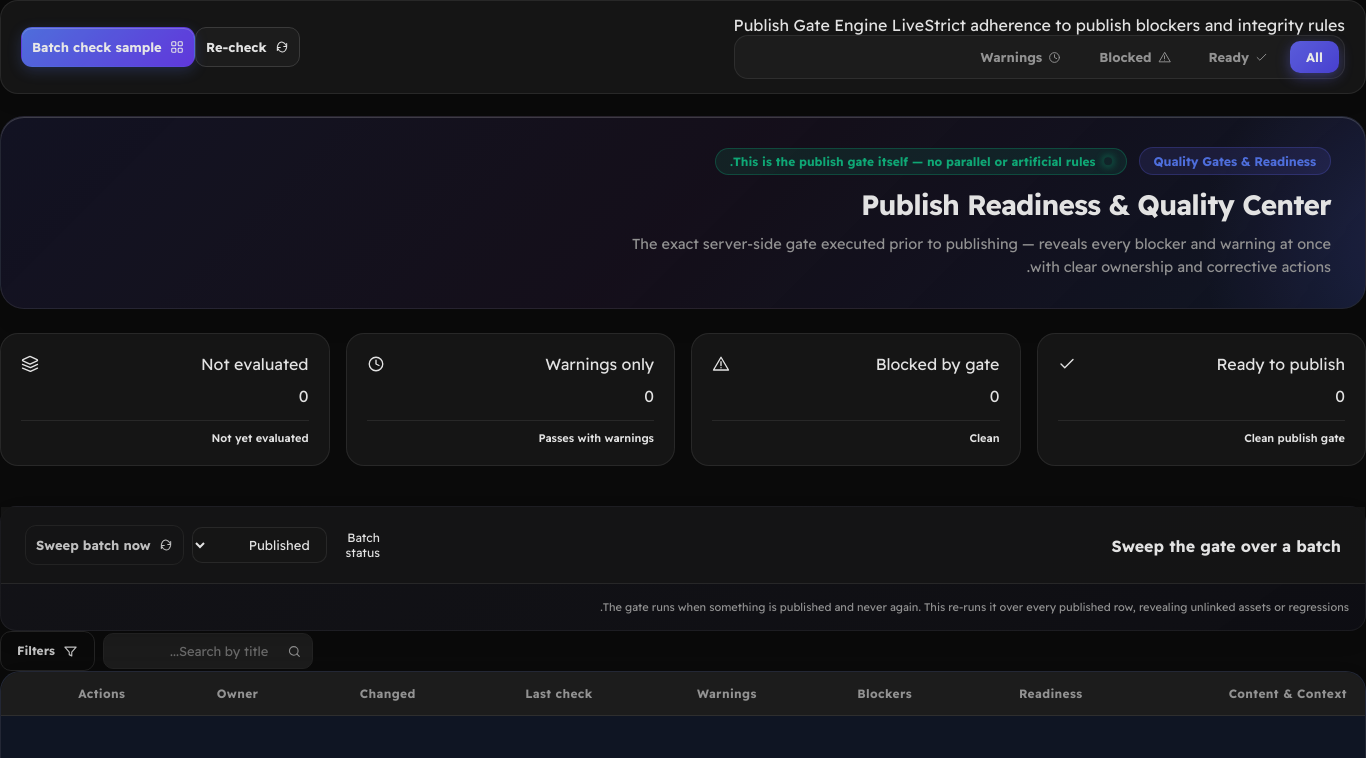
Test case: مسح البوابة › التحذير يُعرض ولا يُدرَج مع المحجوب
Click the button "Sweep batch now".
click(104, 545)  # box [25,525,184,565]
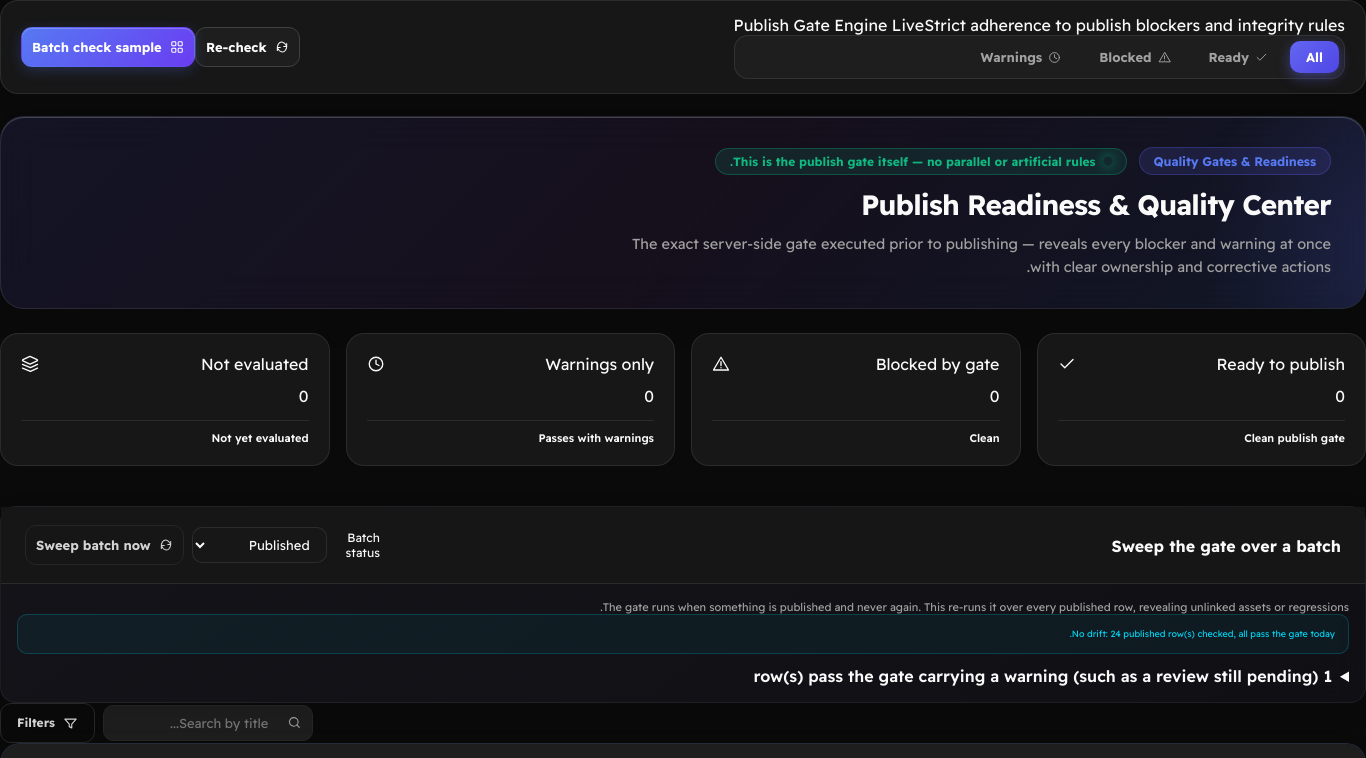
Check: the text "24 published row(s) checked" is shown, box [1070,628,1335,639]
Check: the heading "1 row(s) pass the gate carrying a warning" is shown, box [754,666,1332,686]
